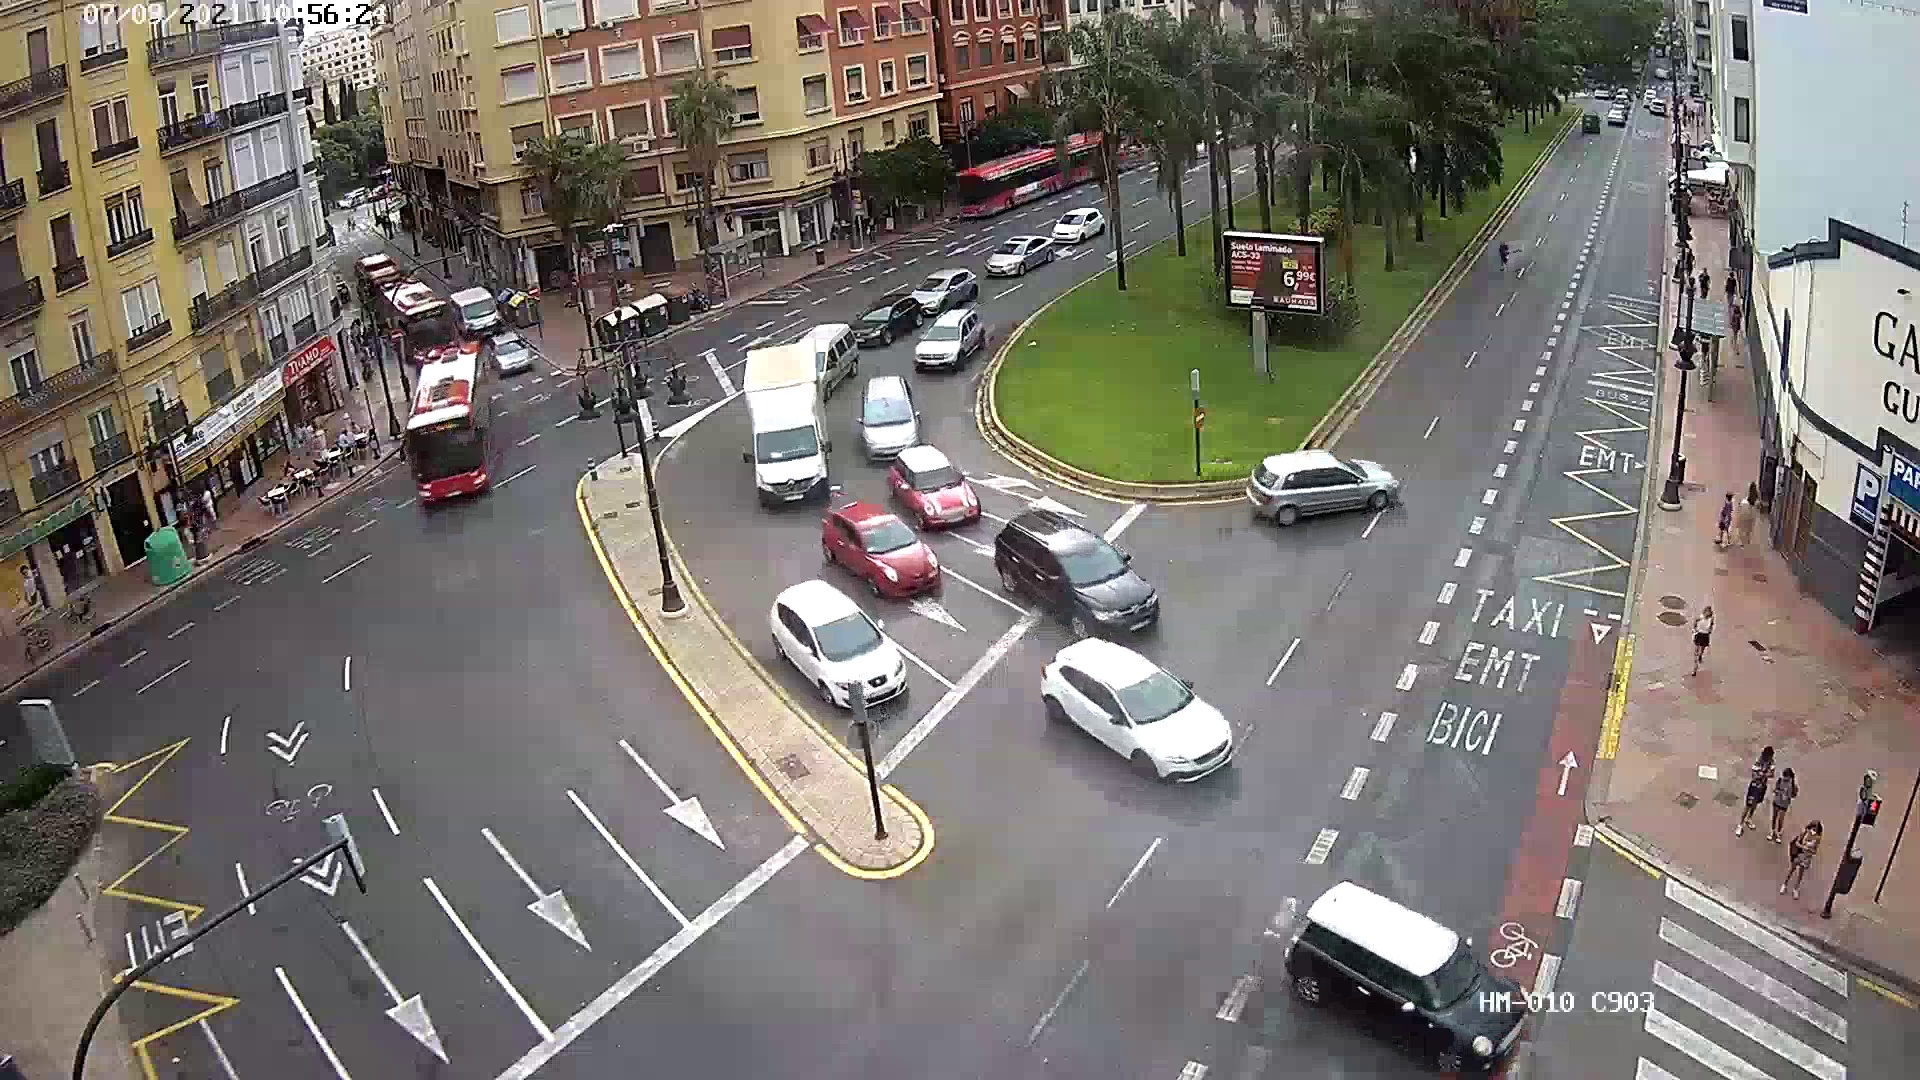Cars: (1238, 895, 1551, 1054), (1004, 626, 1247, 791), (1004, 498, 1182, 633), (746, 583, 913, 703), (808, 506, 951, 597), (1236, 454, 1414, 524), (878, 458, 992, 524), (847, 375, 928, 458), (910, 314, 988, 378), (849, 290, 916, 345), (982, 233, 1056, 273), (907, 273, 978, 307), (484, 338, 539, 371), (1048, 208, 1104, 240)
